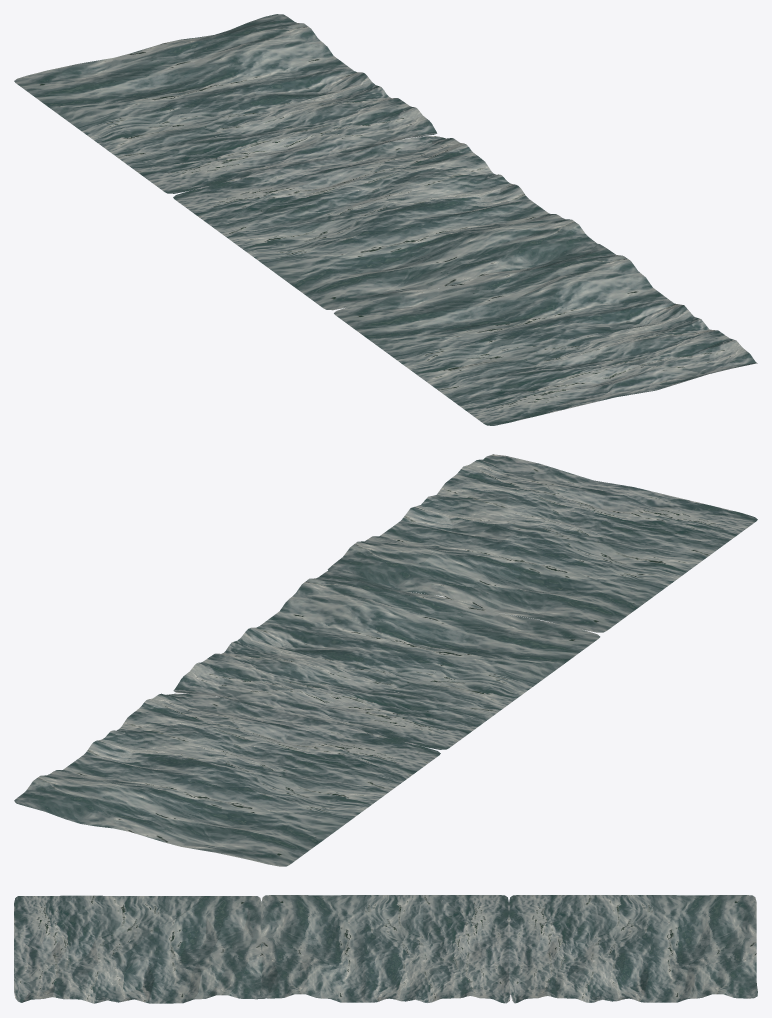
Rendered from Mar.obj.
3 views of the same model, one above another, from view 1: azimuth 30°, elevation 25°; view 2: azimuth 150°, elevation 25°; view 3: azimuth 270°, elevation 25° (orthographic). The views are drawn at different scales.
Parts seen in each view (by area): view 1: Mar.001_Plane.004, Mar.002_Plane.077, Mar_Plane.013; view 2: Mar_Plane.013, Mar.002_Plane.077, Mar.001_Plane.004; view 3: Mar.001_Plane.004, Mar.002_Plane.077, Mar_Plane.013.
Part boxes in pixels (bbox=[...]): Mar.001_Plane.004: bbox=[173, 136, 597, 310]; Mar.002_Plane.077: bbox=[14, 14, 437, 193]; Mar_Plane.013: bbox=[334, 243, 757, 425]; Mar_Plane.013: bbox=[327, 454, 757, 632]; Mar.002_Plane.077: bbox=[14, 693, 440, 866]; Mar.001_Plane.004: bbox=[173, 569, 600, 749]; Mar.001_Plane.004: bbox=[260, 895, 510, 1003]; Mar.002_Plane.077: bbox=[509, 895, 757, 1003]; Mar_Plane.013: bbox=[14, 895, 265, 1003].
Size of the model in its own units: 1933 by 107 by 5834.
Materials: 3 (3 with a texture image).
